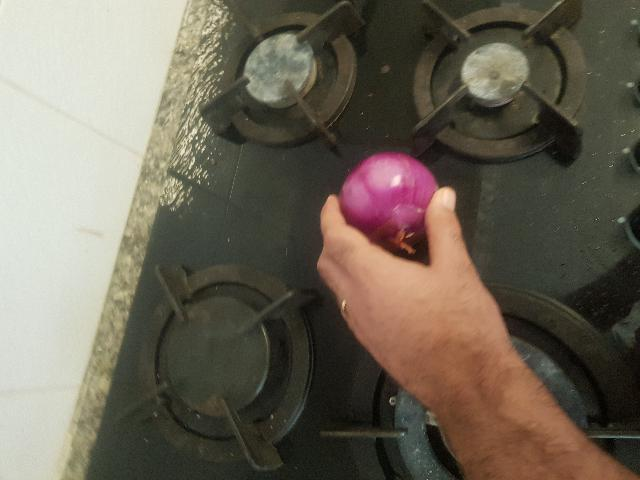onion: (345, 158, 442, 241)
